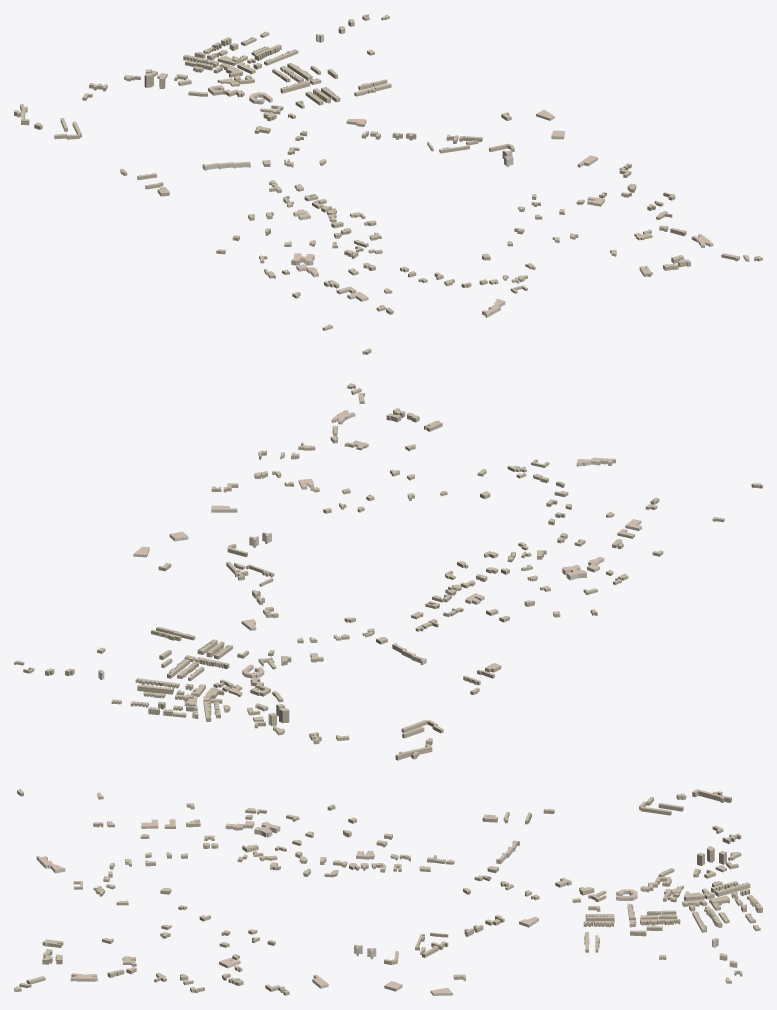
3 views of the same model, one above another, from view 1: azimuth 30°, elevation 25°; view 2: azimuth 150°, elevation 25°; view 3: azimuth 270°, elevation 25° (orthographic). The views are drawn at different scales.
Size of the model in its own units: 1552 by 64.52 by 2381.
